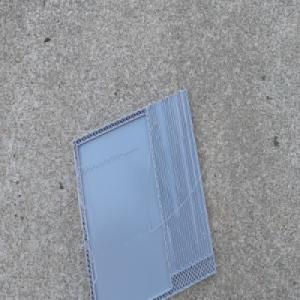PlasticPart: (71, 86, 219, 300)
